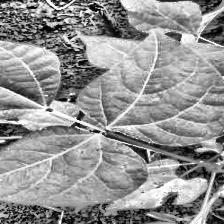ALS: (0, 132, 166, 200), (0, 35, 46, 123)
